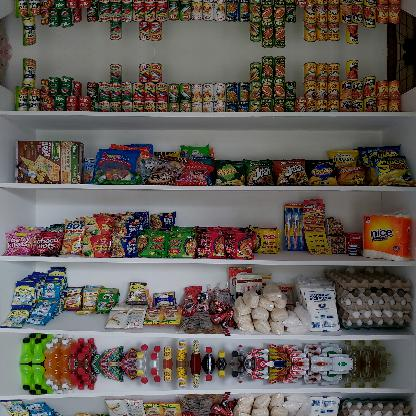Koko-Krunch: (16, 140, 84, 184)
